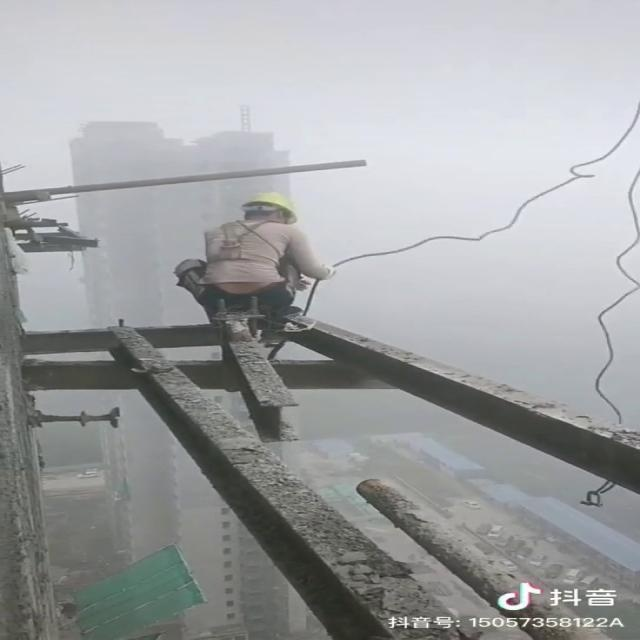Arnes_seguridad: (200, 217, 299, 276)
